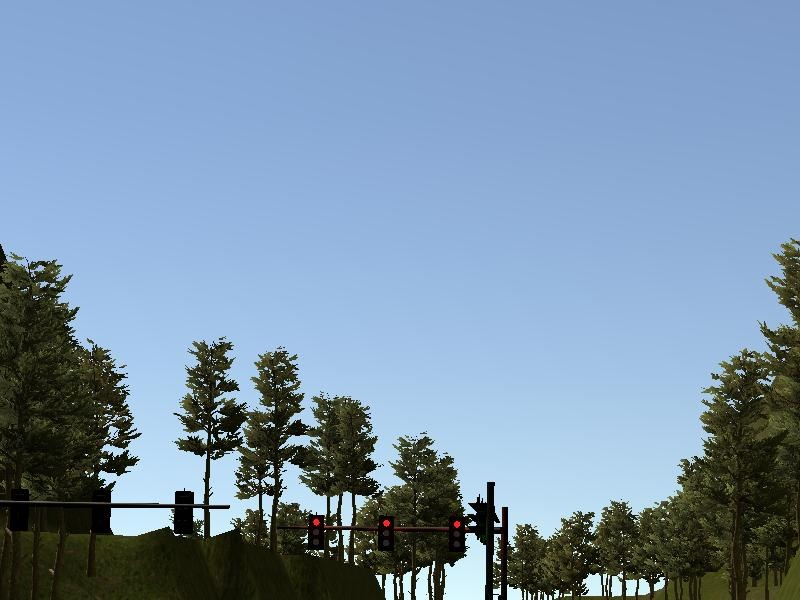Red: (448, 517, 466, 552), (377, 515, 394, 552), (307, 515, 324, 551)
